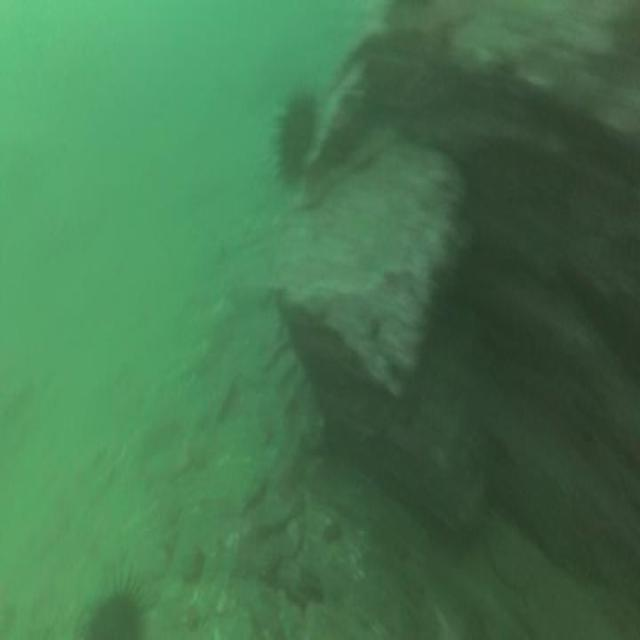echinus: (272, 84, 321, 199), (84, 575, 148, 640)
